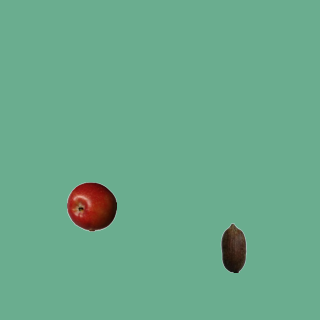Apple Braeburn: (66, 181, 116, 231)
Nut Pecan: (208, 222, 258, 272)
